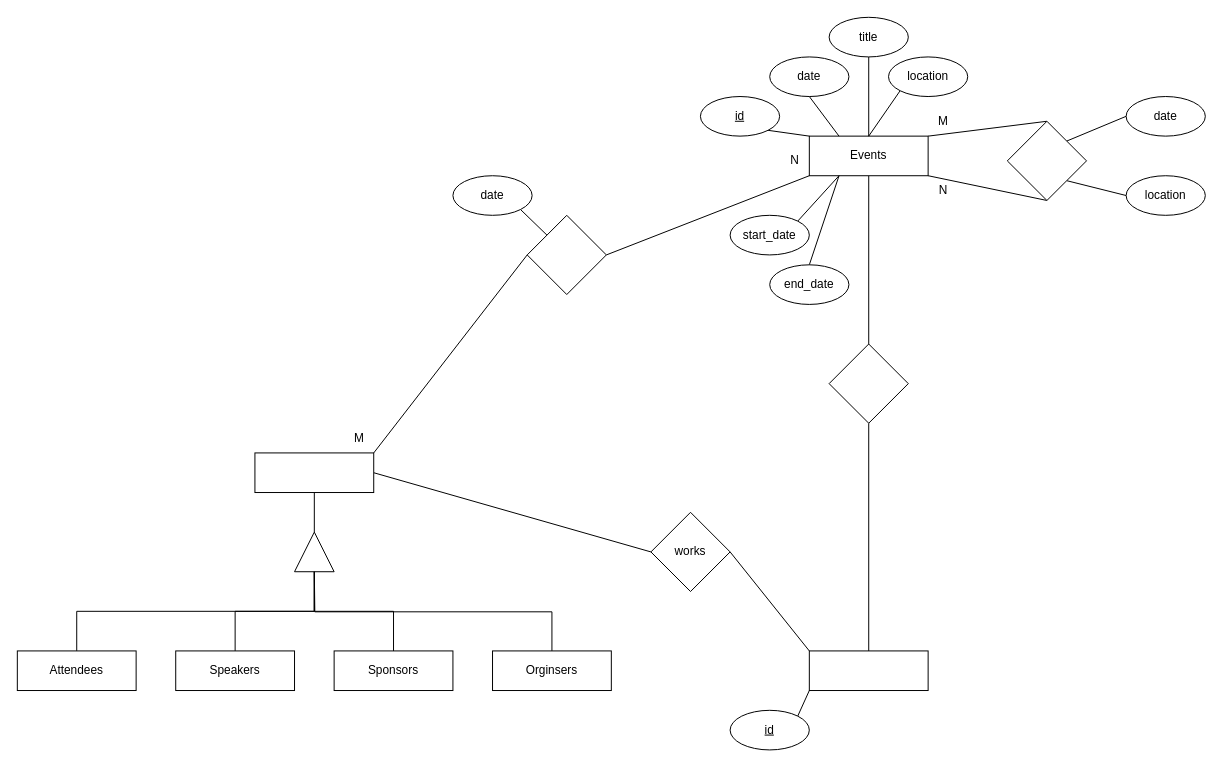
Some shapes in this 1223 by 767 pixel diagram are drawn without their labels. Here are the shapes that lost their labels. From the top down, the centre of each, then its label:
(1046,160): contains
(566,254): participates
(868,383): organises
(314,472): Users
(868,670): Companies
